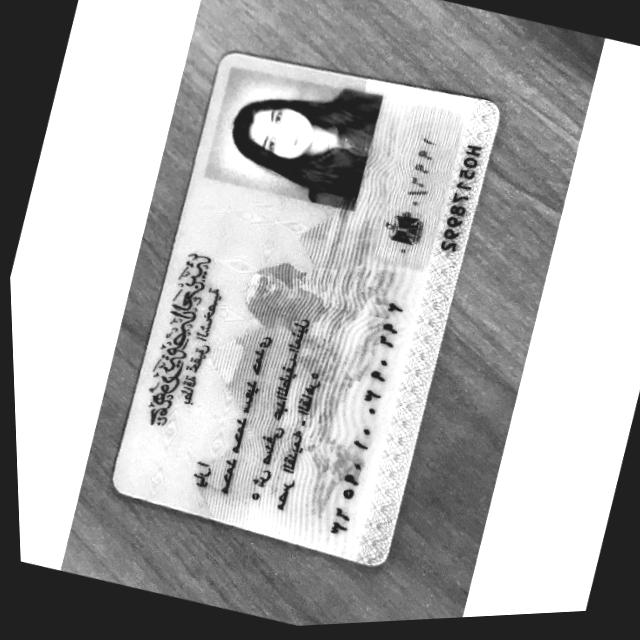id_card: (96, 39, 511, 580)
